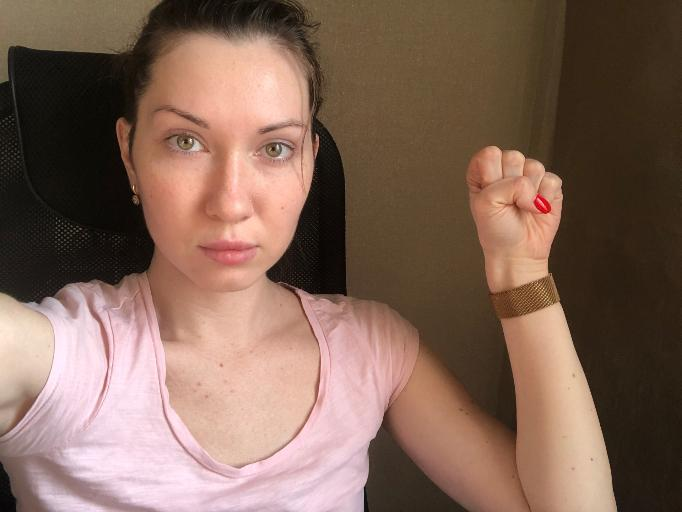fist: (464, 141, 567, 269)
